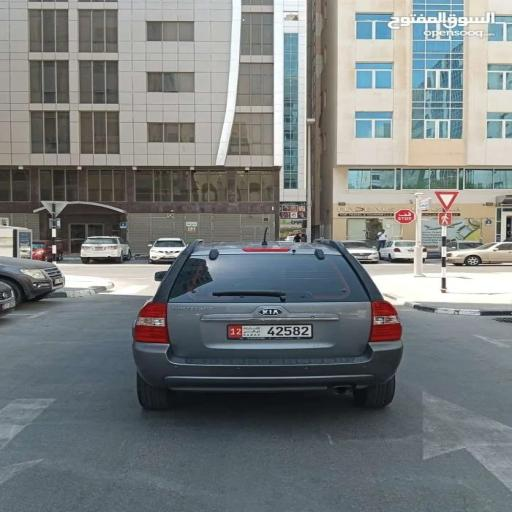license-plates: (228, 325, 311, 338), (1, 301, 16, 311), (54, 278, 64, 285)
